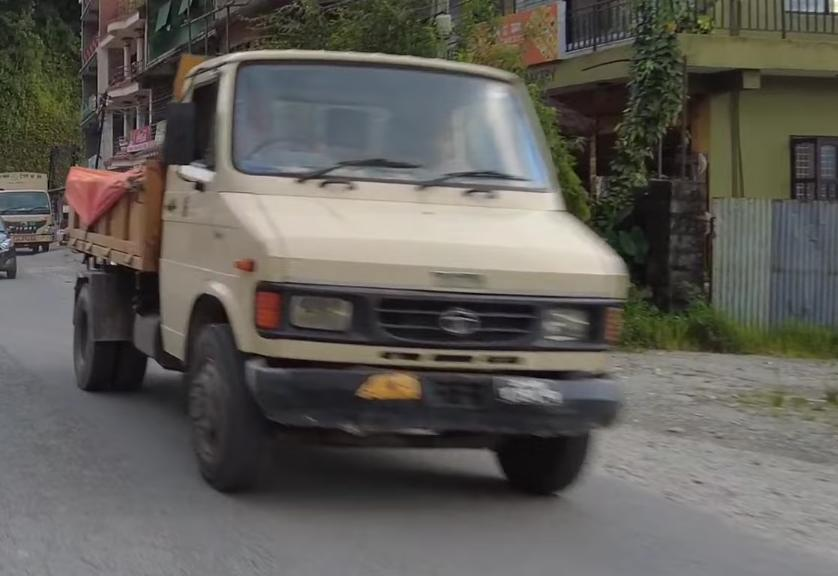mini_truck: (61, 43, 635, 508), (0, 162, 59, 272)
